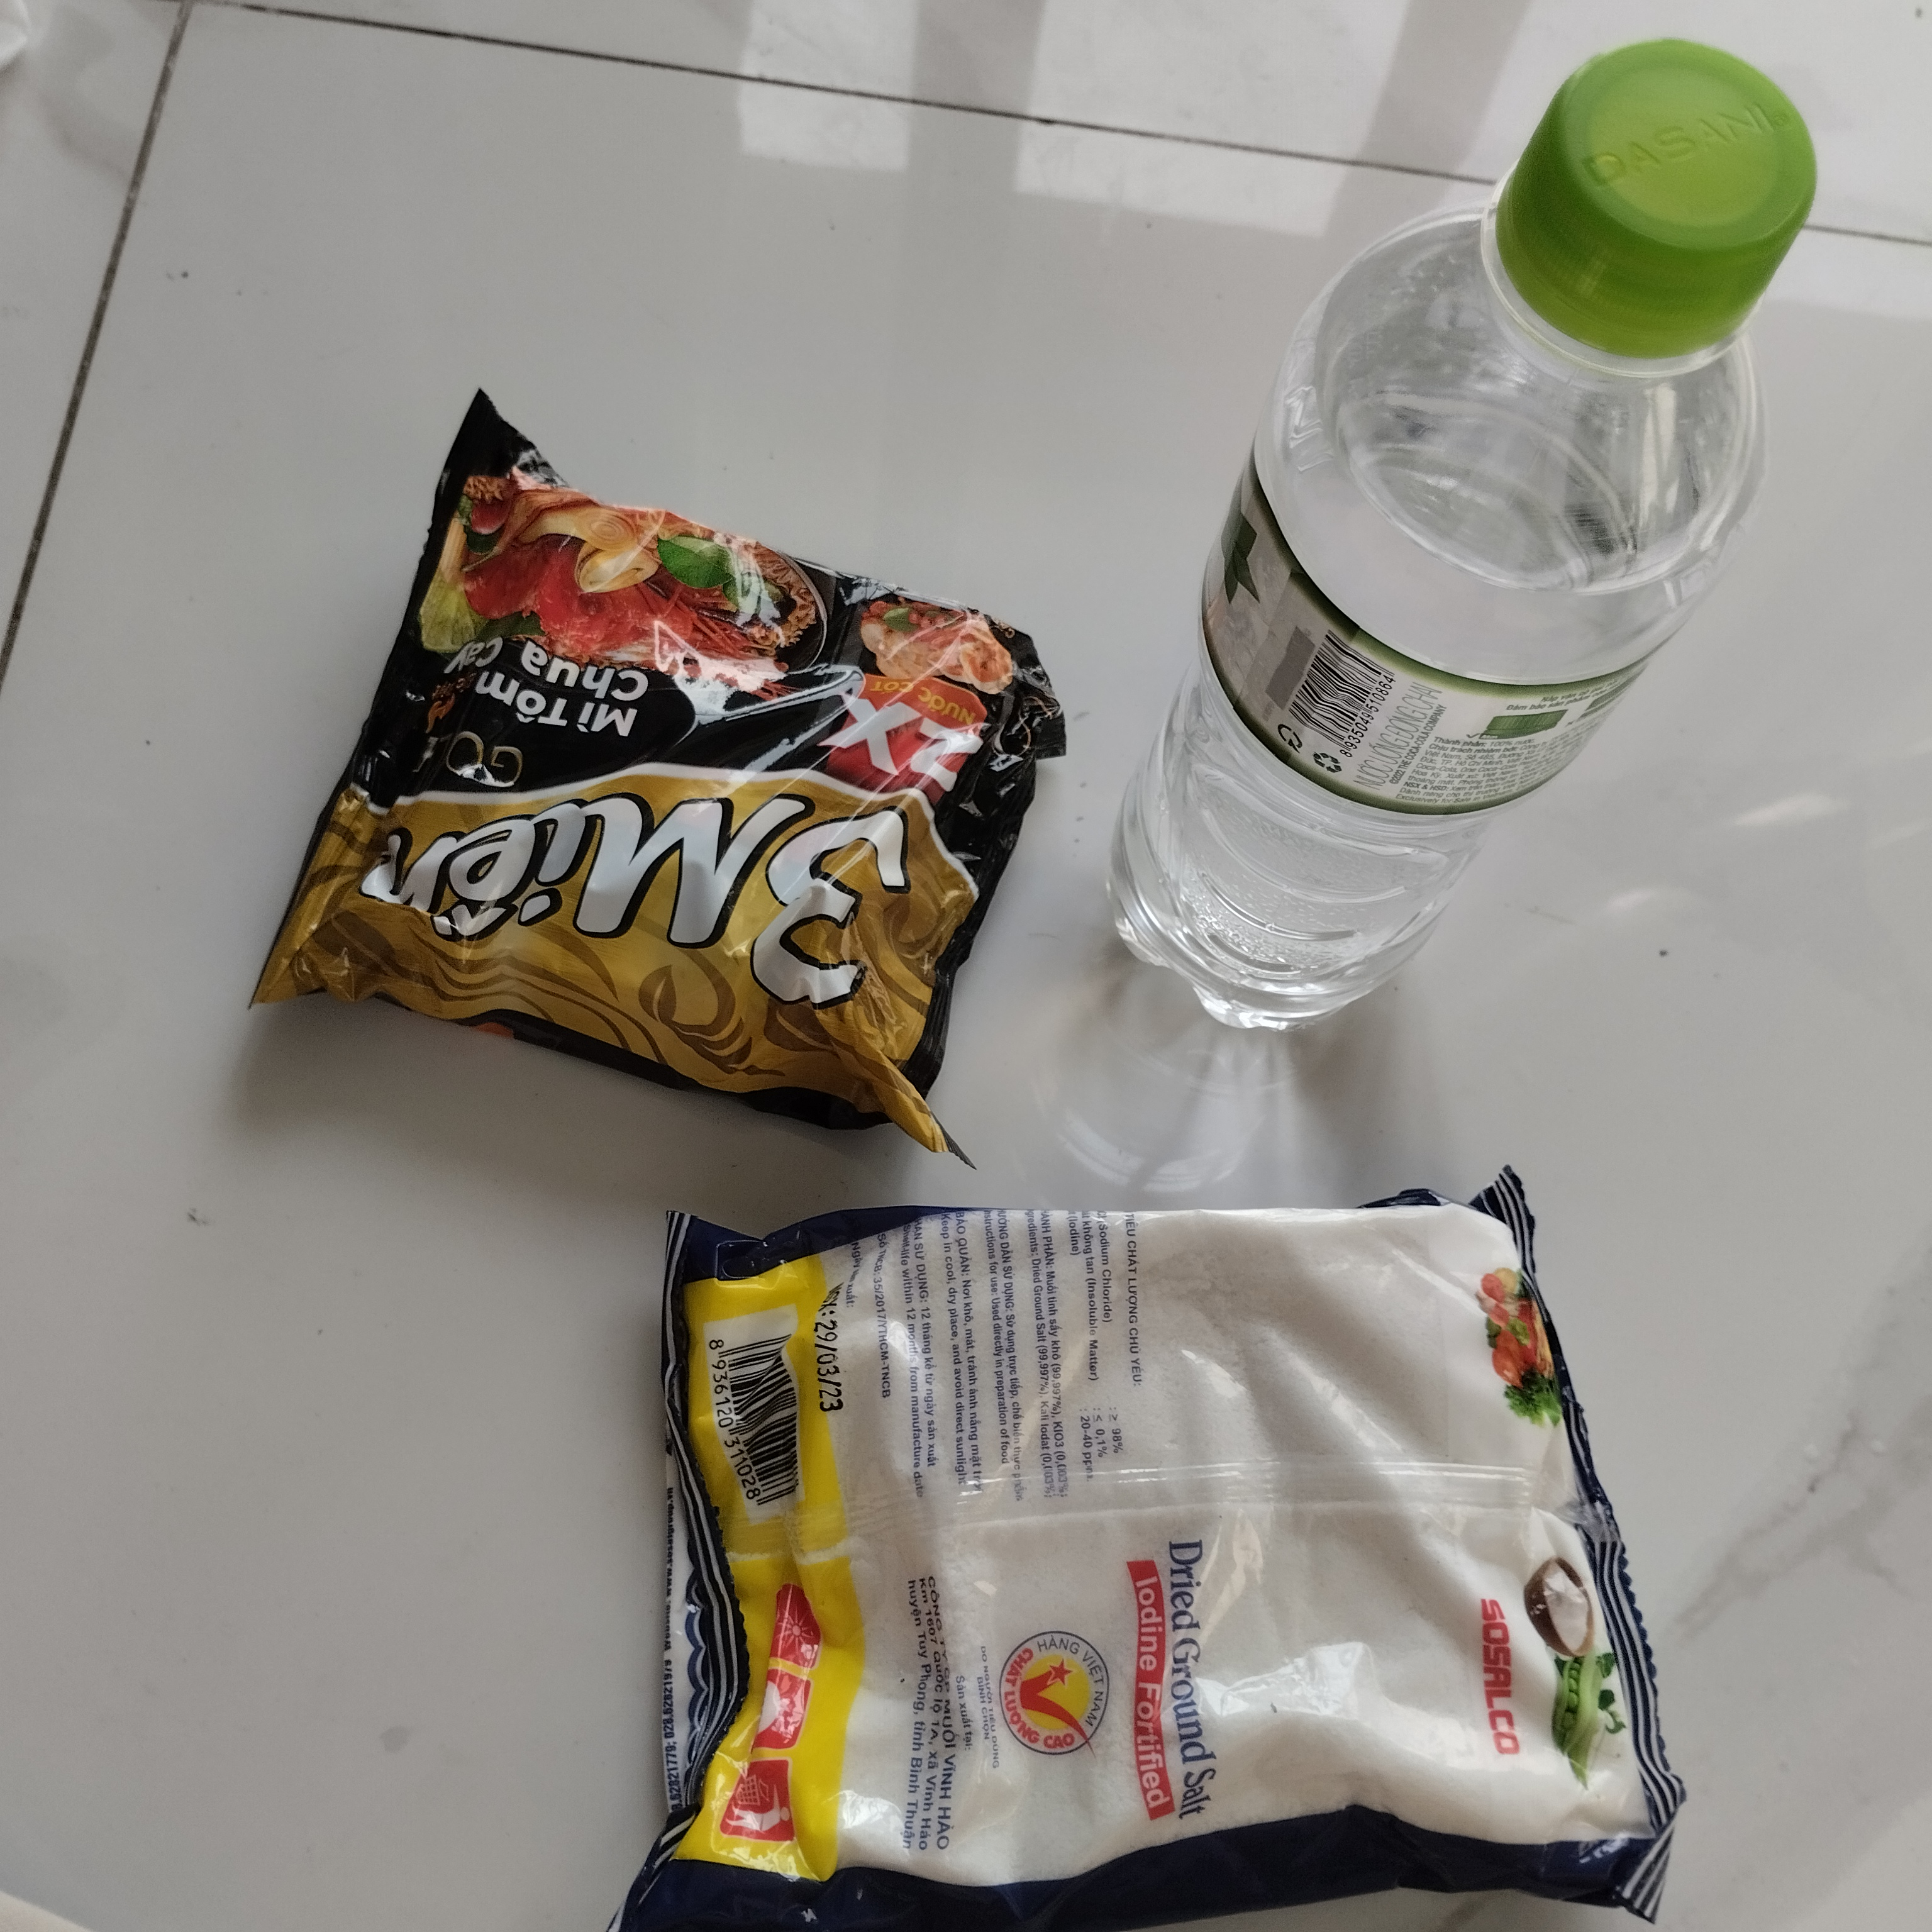3mien: (248, 382, 1067, 1182)
Dasani: (1067, 44, 1819, 1053)
Salt: (626, 1166, 1693, 1930)
